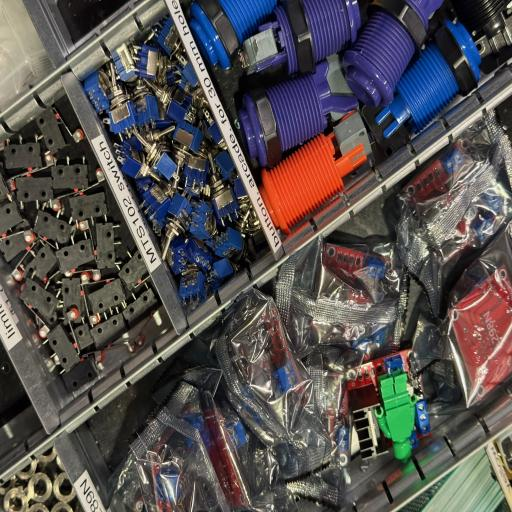Lego-Dude: (376, 368, 417, 461)
